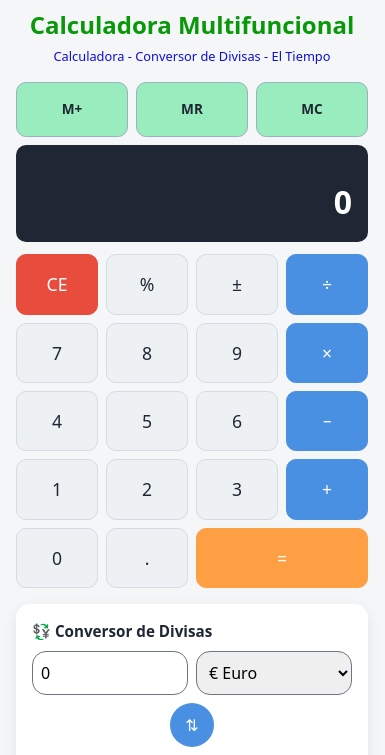
Test: App › calcula calculatorAmount a partir del display de la calculadora
Click the button "7". click: (57, 353)
box: [16,323,98,383]
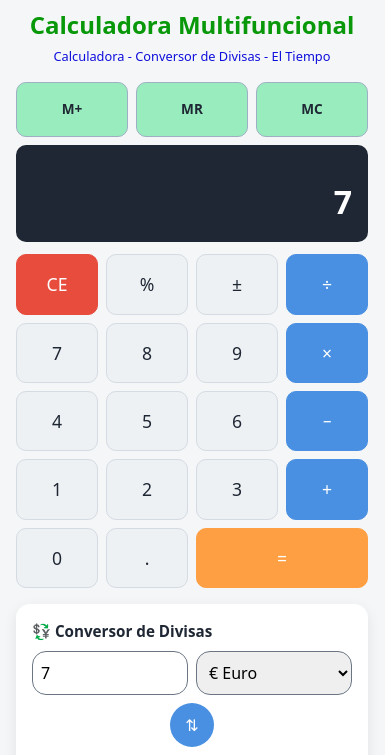
Expected: the number field with class "currency-converter__input" holds "7", [32,651,188,695]
